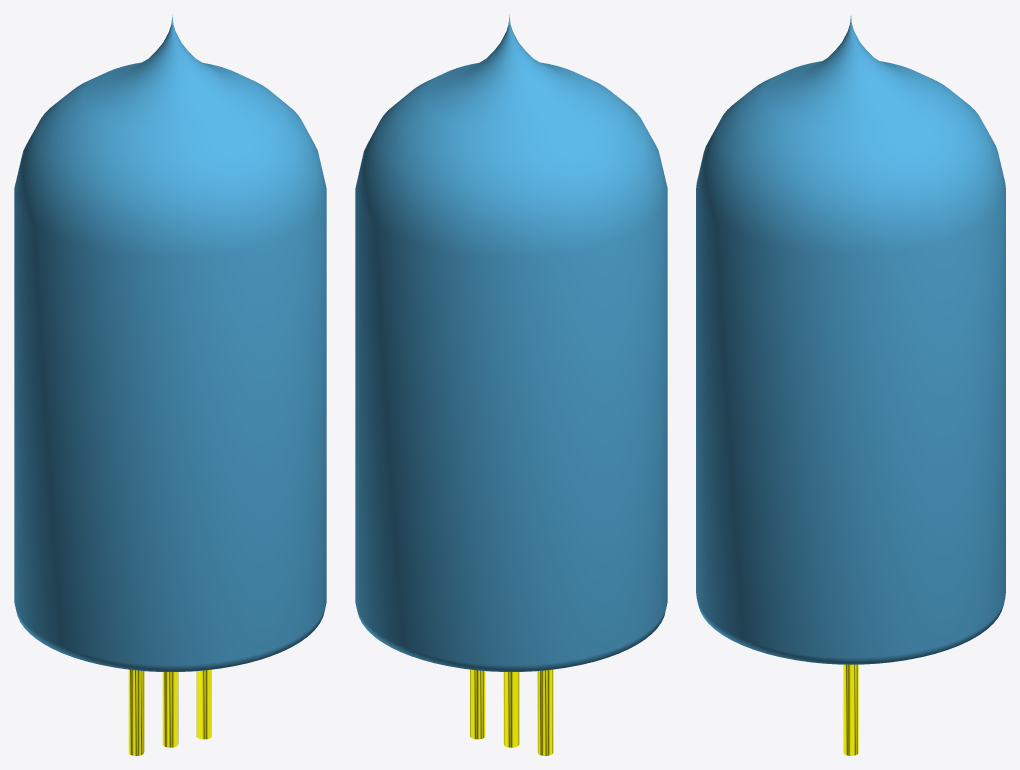
The model's file is transistor_1941.fbx.
3 views of the same model, side by side, from view 1: azimuth 30°, elevation 25°; view 2: azimuth 150°, elevation 25°; view 3: azimuth 270°, elevation 25° (orthographic).
Parts seen in each view (by area): view 1: transistor_1941; view 2: transistor_1941; view 3: transistor_1941.
Boxes of the visible parts, <box> form: transistor_1941: <box>14,14,326,755</box>; transistor_1941: <box>355,14,667,755</box>; transistor_1941: <box>696,16,1005,755</box>.
Size of the model in its own units: 191 by 491 by 191.
